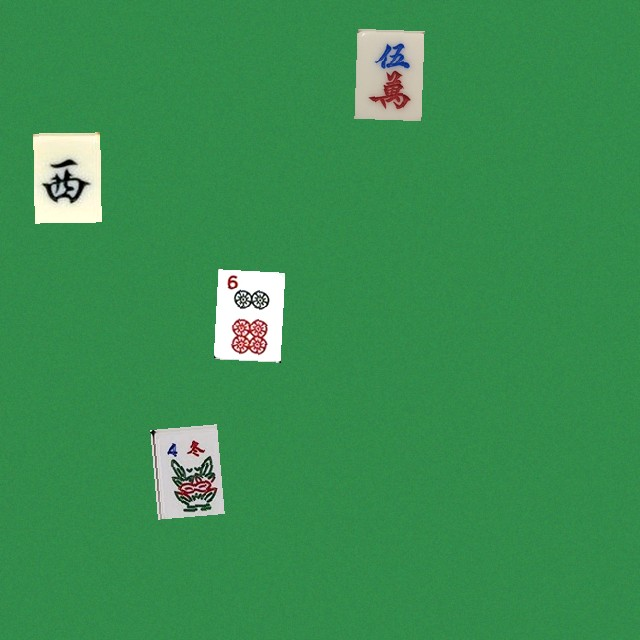tile: (354, 28, 421, 118), (213, 269, 280, 359), (33, 132, 100, 222), (150, 424, 217, 514)
